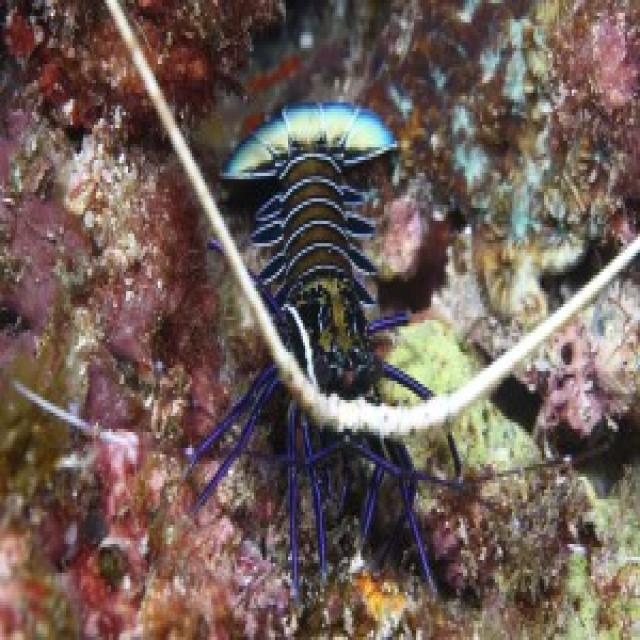lobsters: (162, 109, 528, 626)
